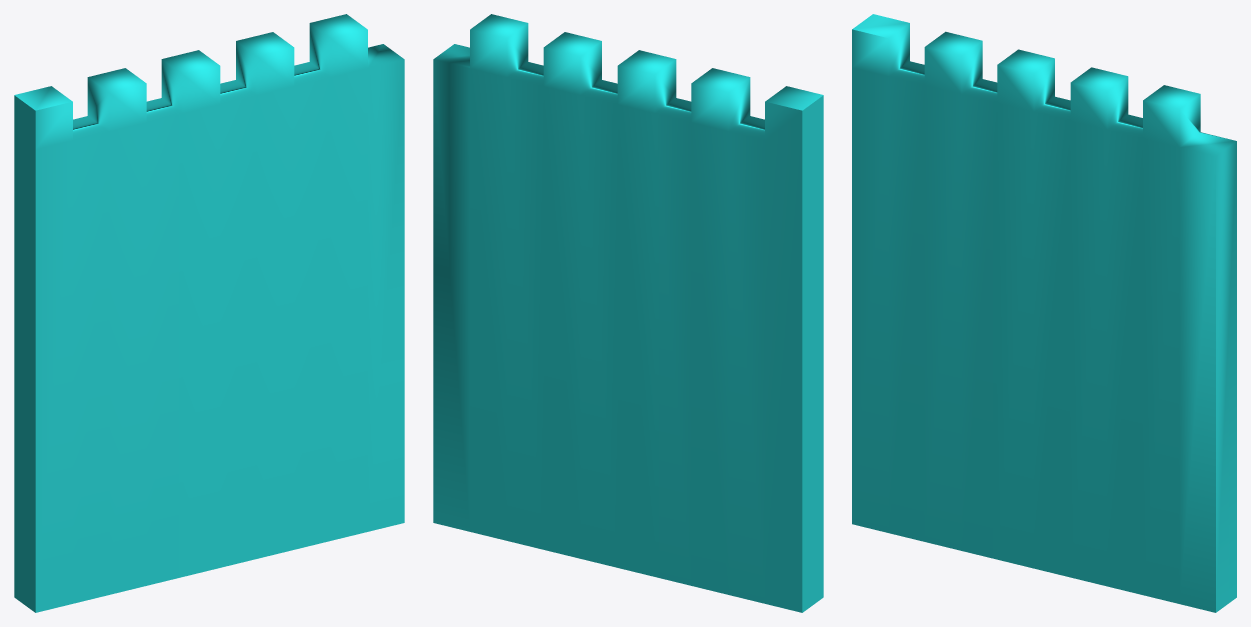
File: wall.fbx
3 renders of one model, left to right at view 1: azimuth 30°, elevation 25°; view 2: azimuth 150°, elevation 25°; view 3: azimuth 330°, elevation 25°, orthographic.
Parts seen in each view (by area): view 1: pasted__Wall5; view 2: pasted__Wall5; view 3: pasted__Wall5.
Boxes of the visible parts, bbox=[...] form: pasted__Wall5: bbox=[14, 14, 404, 612]; pasted__Wall5: bbox=[433, 14, 823, 612]; pasted__Wall5: bbox=[852, 14, 1236, 612].
Size of the model in its own units: 2.5 by 3.25 by 0.25.
